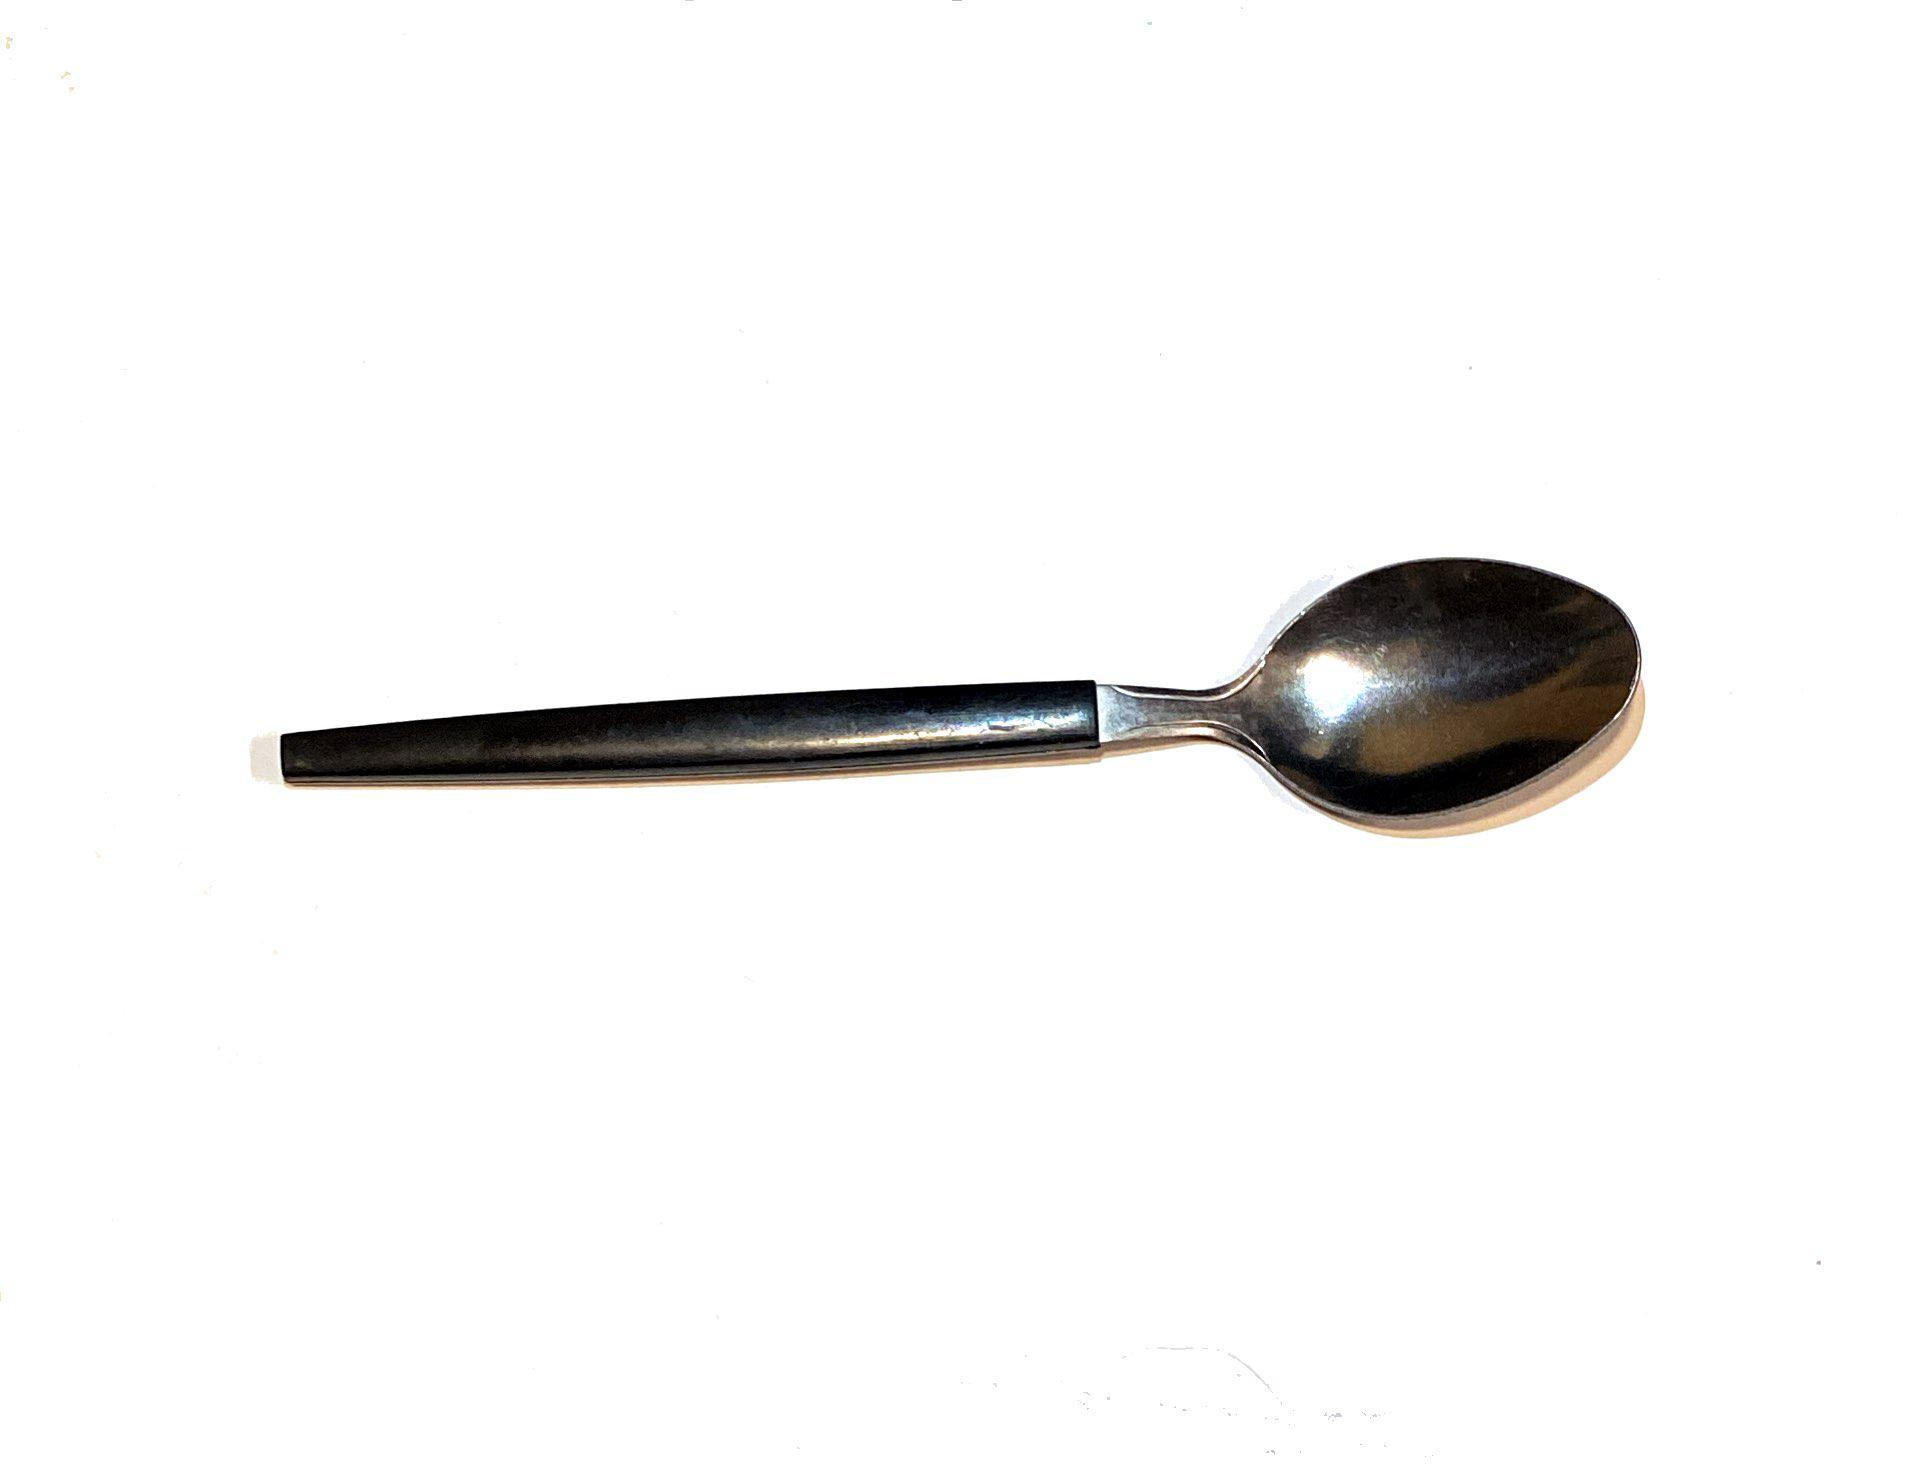Spoon: (189, 525, 1660, 976)
